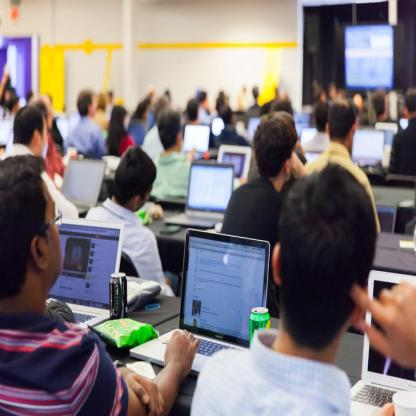board: (129, 228, 271, 376), (351, 271, 416, 416), (48, 217, 119, 321), (165, 162, 233, 232), (60, 158, 108, 217), (352, 130, 385, 170), (216, 143, 252, 179), (249, 307, 271, 352), (184, 125, 210, 161), (110, 271, 128, 316), (304, 150, 324, 164)
